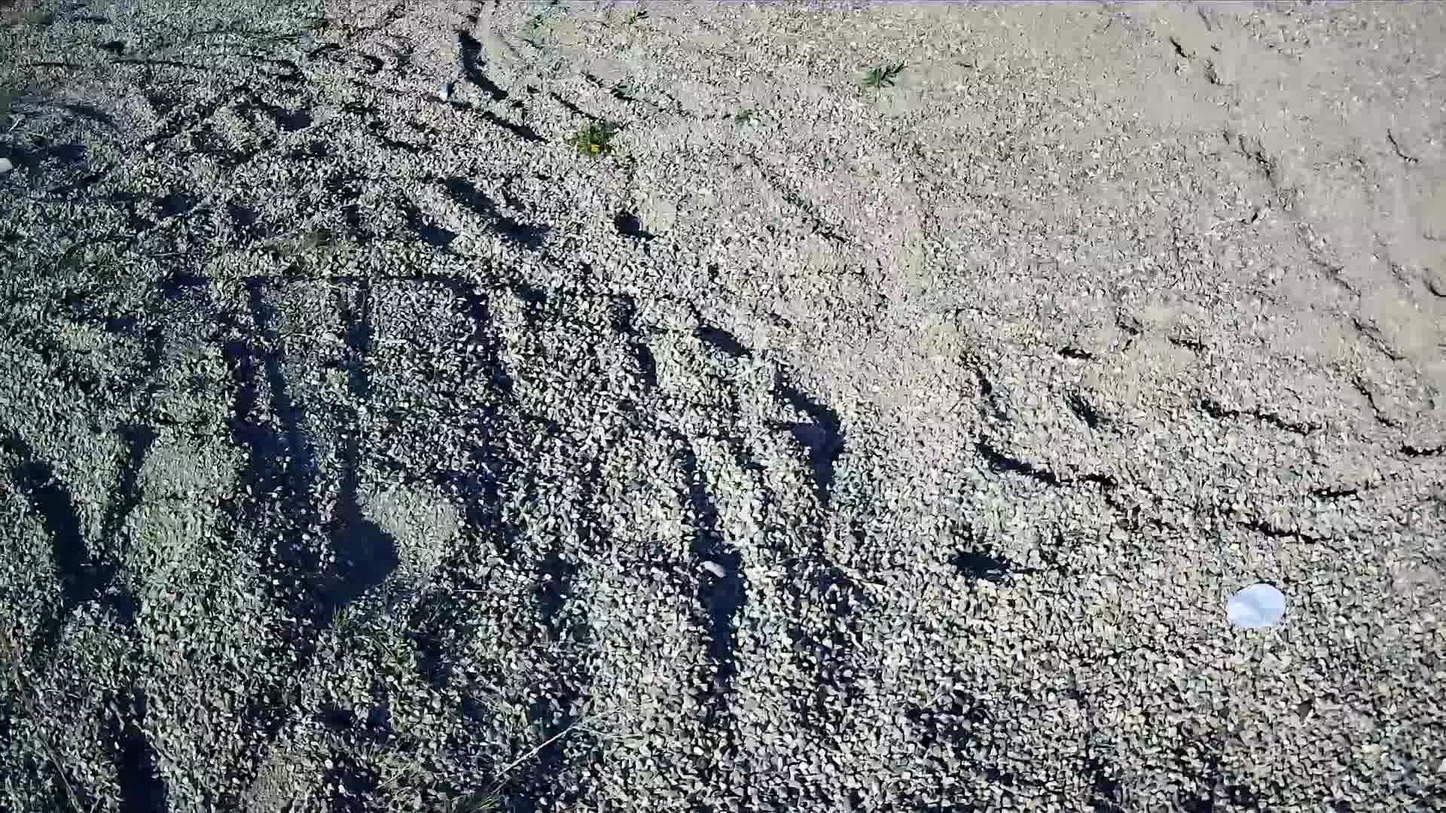Target: (1229, 585, 1286, 627)
